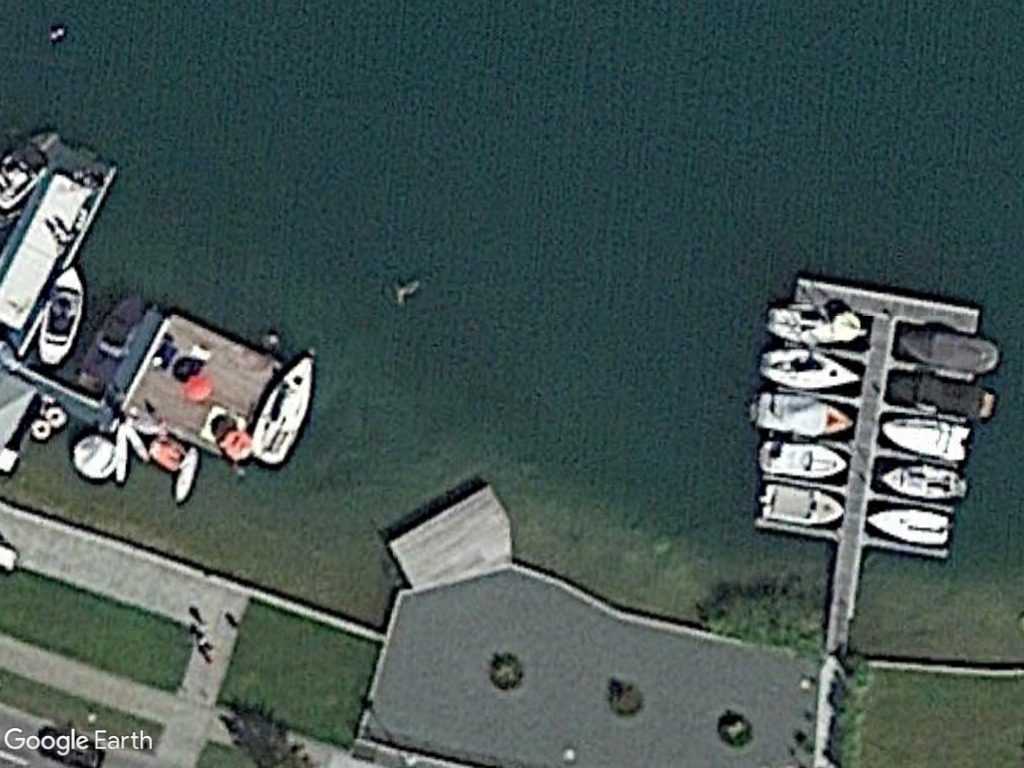boat: (240, 349, 318, 470), (32, 258, 87, 368), (744, 387, 855, 440), (887, 373, 1000, 424), (874, 409, 974, 466), (893, 326, 1000, 376), (762, 299, 864, 350), (753, 346, 859, 392), (755, 433, 851, 483), (754, 480, 846, 531), (864, 503, 952, 552), (874, 464, 975, 505)
